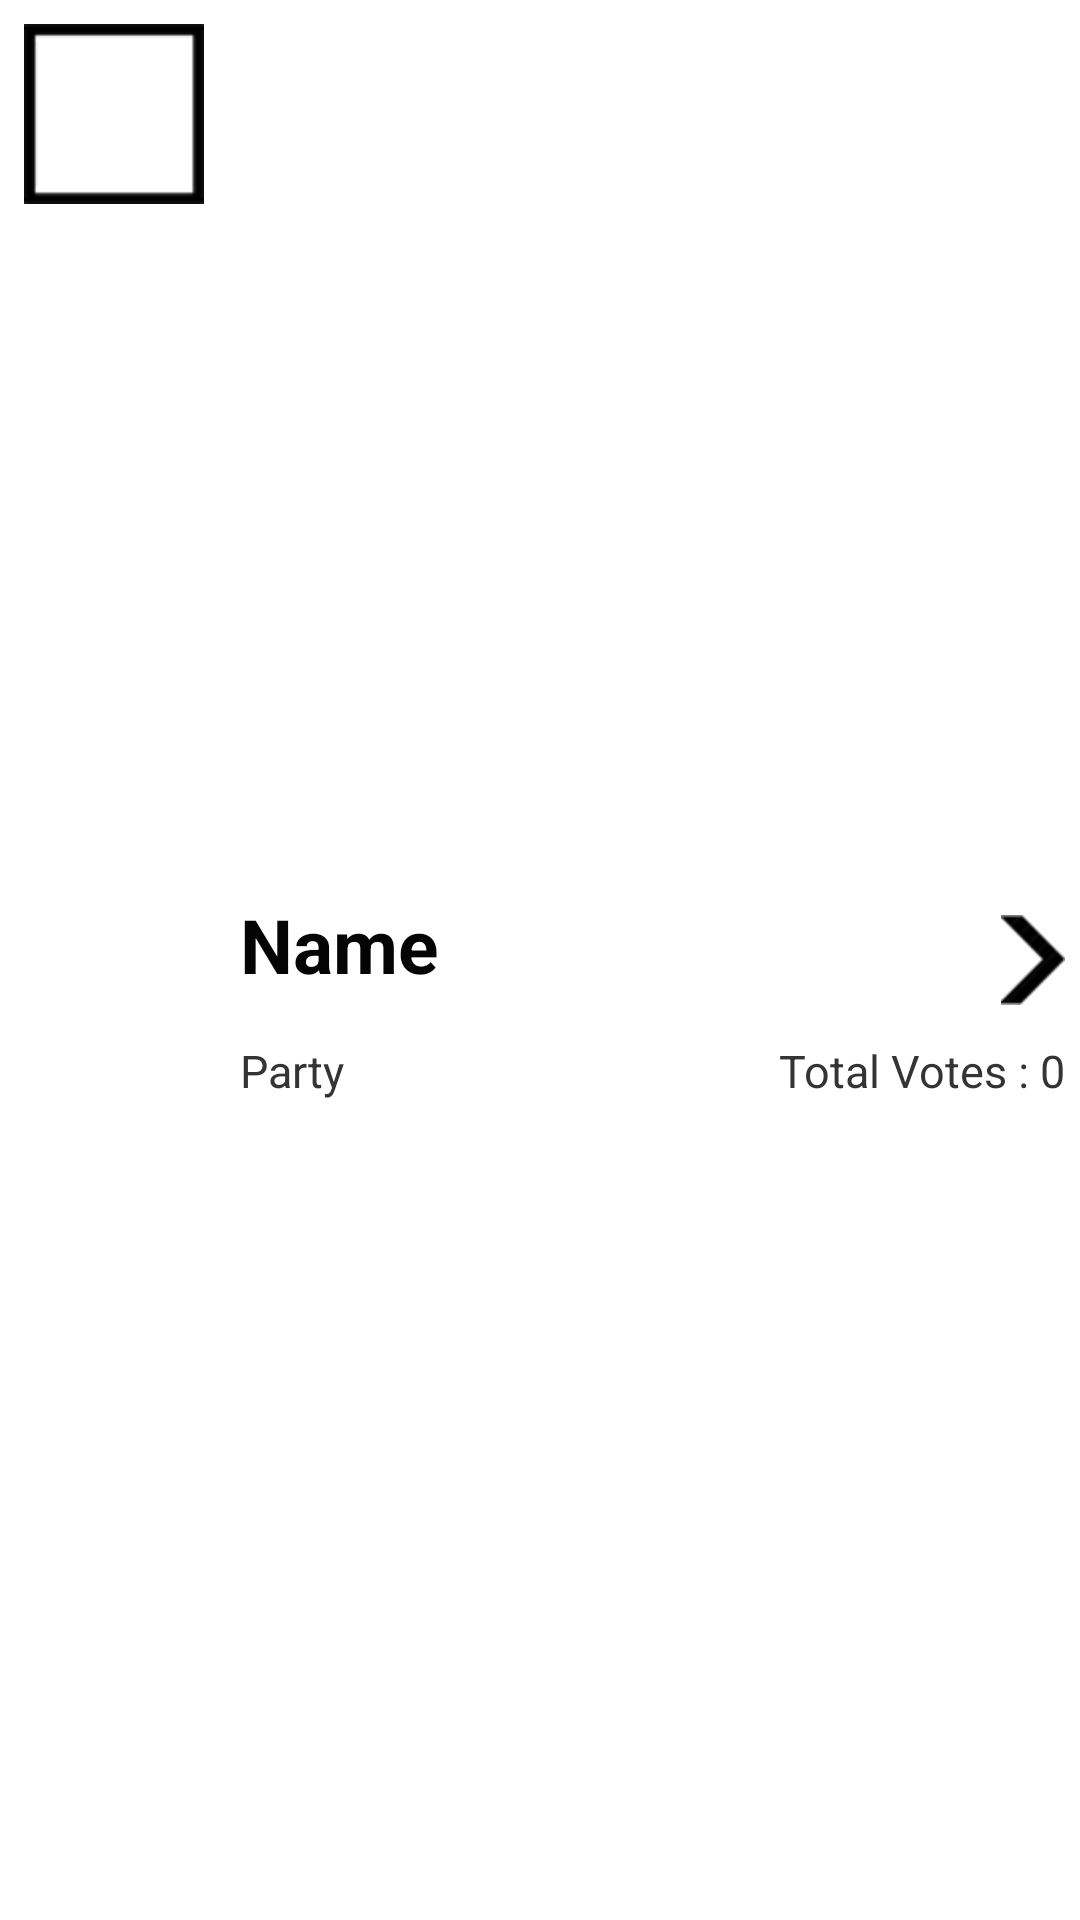

Locate icon controls on the screen. Image size 1080w x 1920h, boxes as [x1,y1,x2,y2].
arrow: [1001,915,1065,1005]
